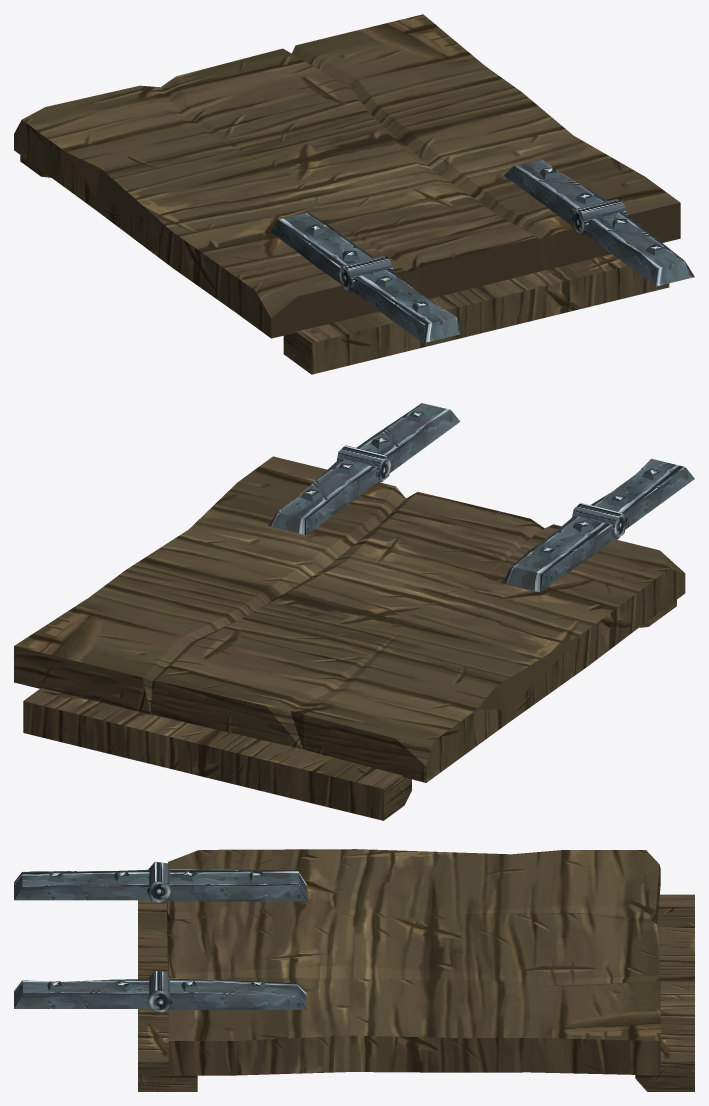
Rendered from SM_Prop_Bar_Gate_01_variant_2.fbx.
3 views of the same model, one above another, from view 1: azimuth 30°, elevation 25°; view 2: azimuth 150°, elevation 25°; view 3: azimuth 270°, elevation 25° (orthographic). The views are drawn at different scales.
Visible parts, largest first — view 1: SM_Prop_Bar_Gate_01_Door, SM_Prop_Bar_Gate_01; view 2: SM_Prop_Bar_Gate_01_Door, SM_Prop_Bar_Gate_01; view 3: SM_Prop_Bar_Gate_01_Door, SM_Prop_Bar_Gate_01.
Part boxes in pixels (bbox=[...]): SM_Prop_Bar_Gate_01_Door: bbox=[14, 14, 680, 338]; SM_Prop_Bar_Gate_01: bbox=[20, 155, 694, 374]; SM_Prop_Bar_Gate_01_Door: bbox=[14, 456, 685, 782]; SM_Prop_Bar_Gate_01: bbox=[23, 403, 694, 820]; SM_Prop_Bar_Gate_01_Door: bbox=[166, 849, 660, 1075]; SM_Prop_Bar_Gate_01: bbox=[14, 861, 694, 1091].
Size of the model in its own units: 73.7 by 15.07 by 111.
